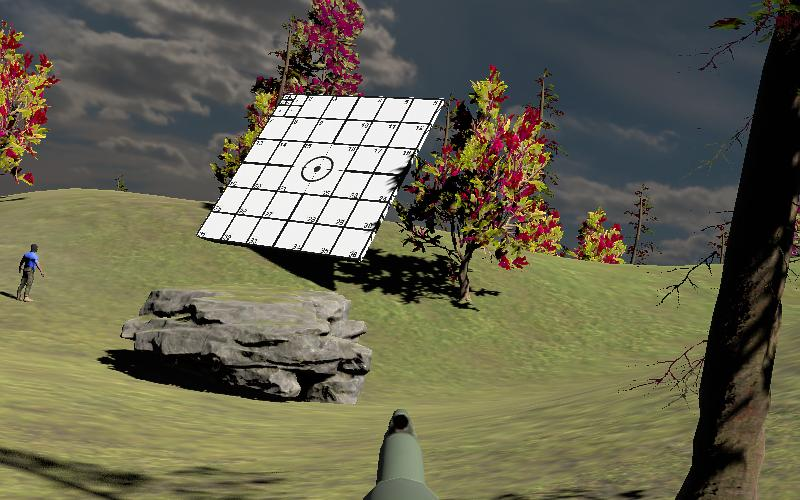Human: (15, 240, 45, 305)
